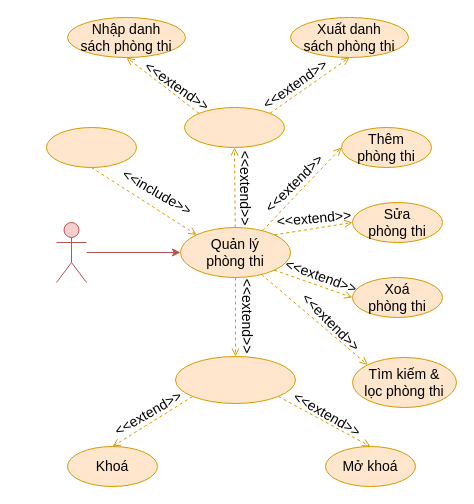
The diagram is 474 pixels wide and 504 high, and some of its shapes have lost their labels. Each missing label, with the centre of its shape:
"Nhập/Xuất" belongs at [234,127].
"Quản lý khoá phòng thi" belongs at [235,380].
"Quản trị hệ thống" belongs at [71,252].
"Đăng nhập" belongs at [91,147].
